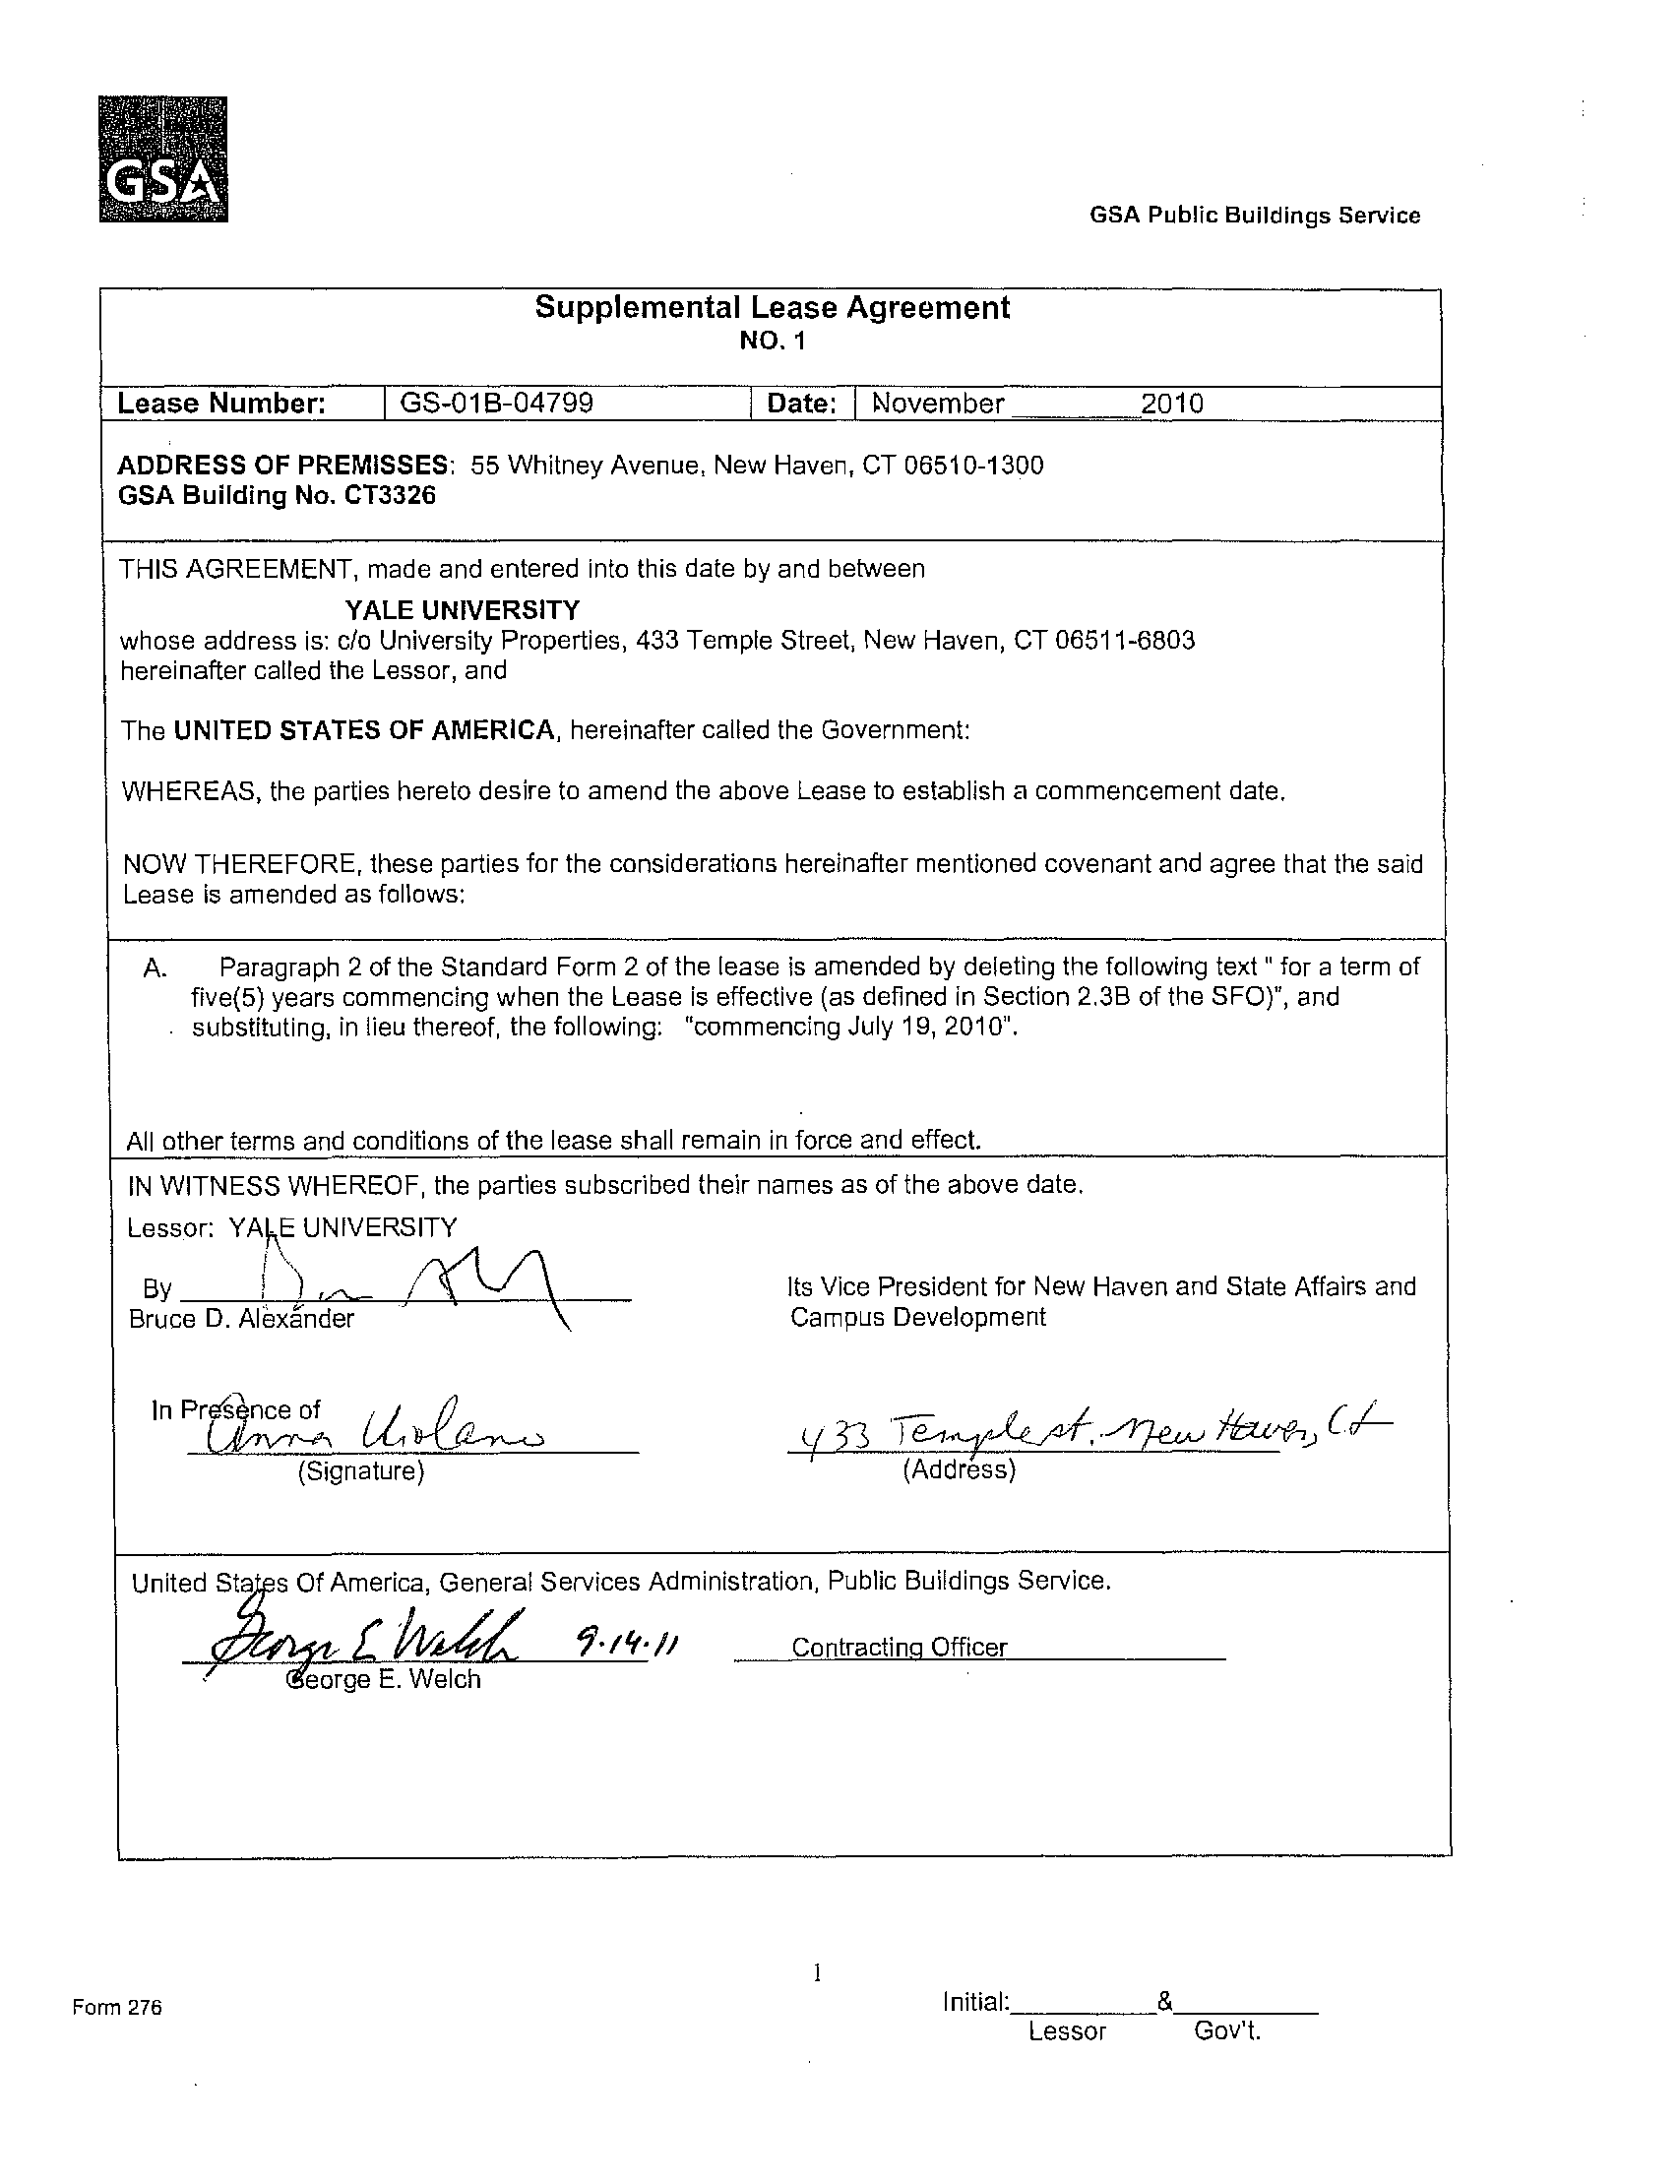handwritten: (748, 1367, 1399, 1468), (173, 1568, 702, 1679), (210, 1226, 589, 1321), (191, 1378, 568, 1466)
